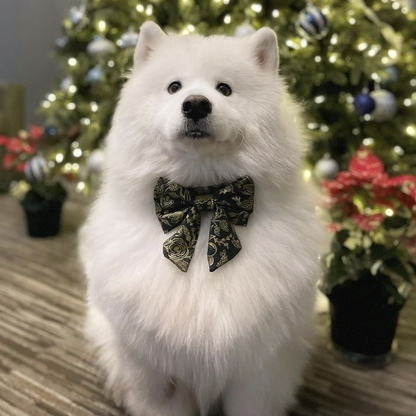samoyed: (71, 15, 330, 416)
